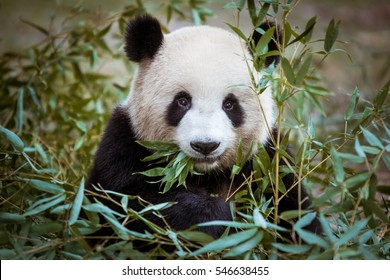panda: (84, 11, 333, 251)
